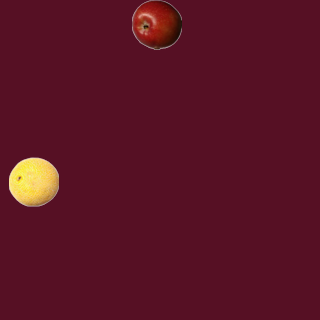Apple Braeburn: (131, 0, 181, 49)
Cantaloupe 1: (8, 156, 58, 206)
